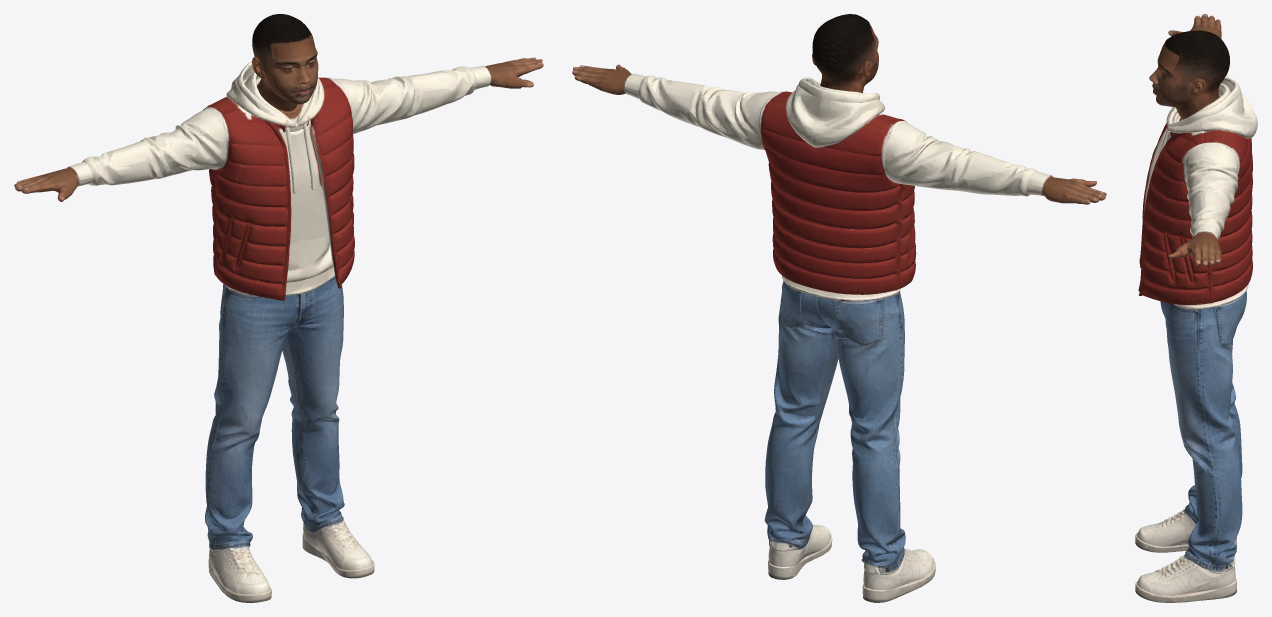
Rendered from character_n10_generated.glb.
3 renders of one model, left to right at view 1: azimuth 30°, elevation 25°; view 2: azimuth 150°, elevation 25°; view 3: azimuth 270°, elevation 25°, orthographic. The views are drawn at different scales.
Size of the model in its own units: 1.9 by 1.9 by 0.3939.
1 material, 1 textured.
